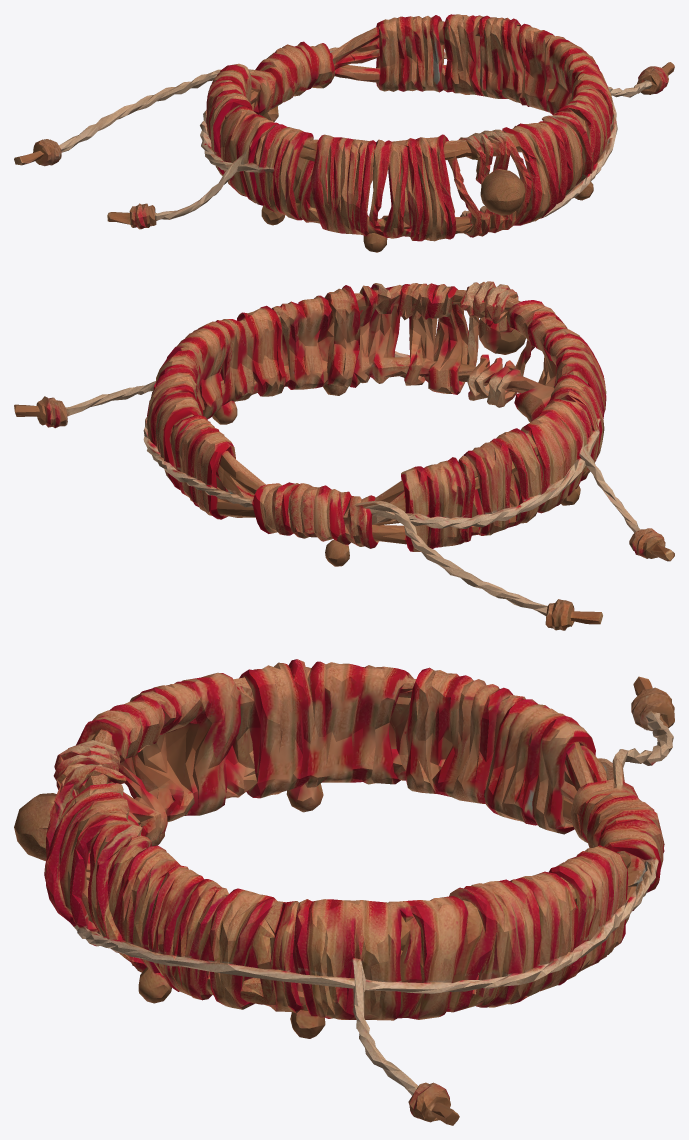
File: ACC_BRACELET_001.glb
3 renders of one model, top to bottom at view 1: azimuth 30°, elevation 25°; view 2: azimuth 150°, elevation 25°; view 3: azimuth 270°, elevation 25°, orthographic. The views are drawn at different scales.
Bounding box in the file's own units: 1.9 × 0.3435 × 1.23.
Materials: 1 (1 with a texture image).
